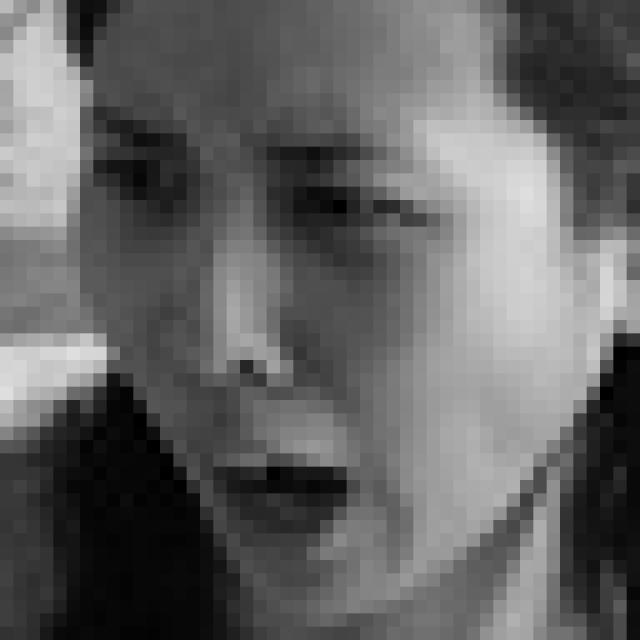disgust: (91, 101, 458, 579)
